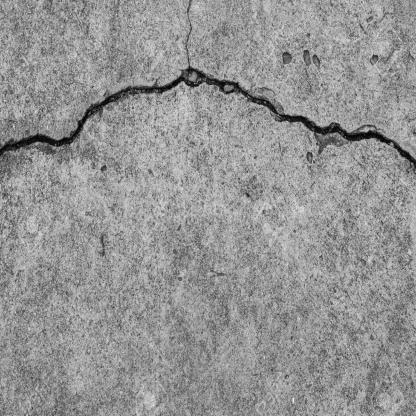branched cracks: (0, 0, 415, 168)
